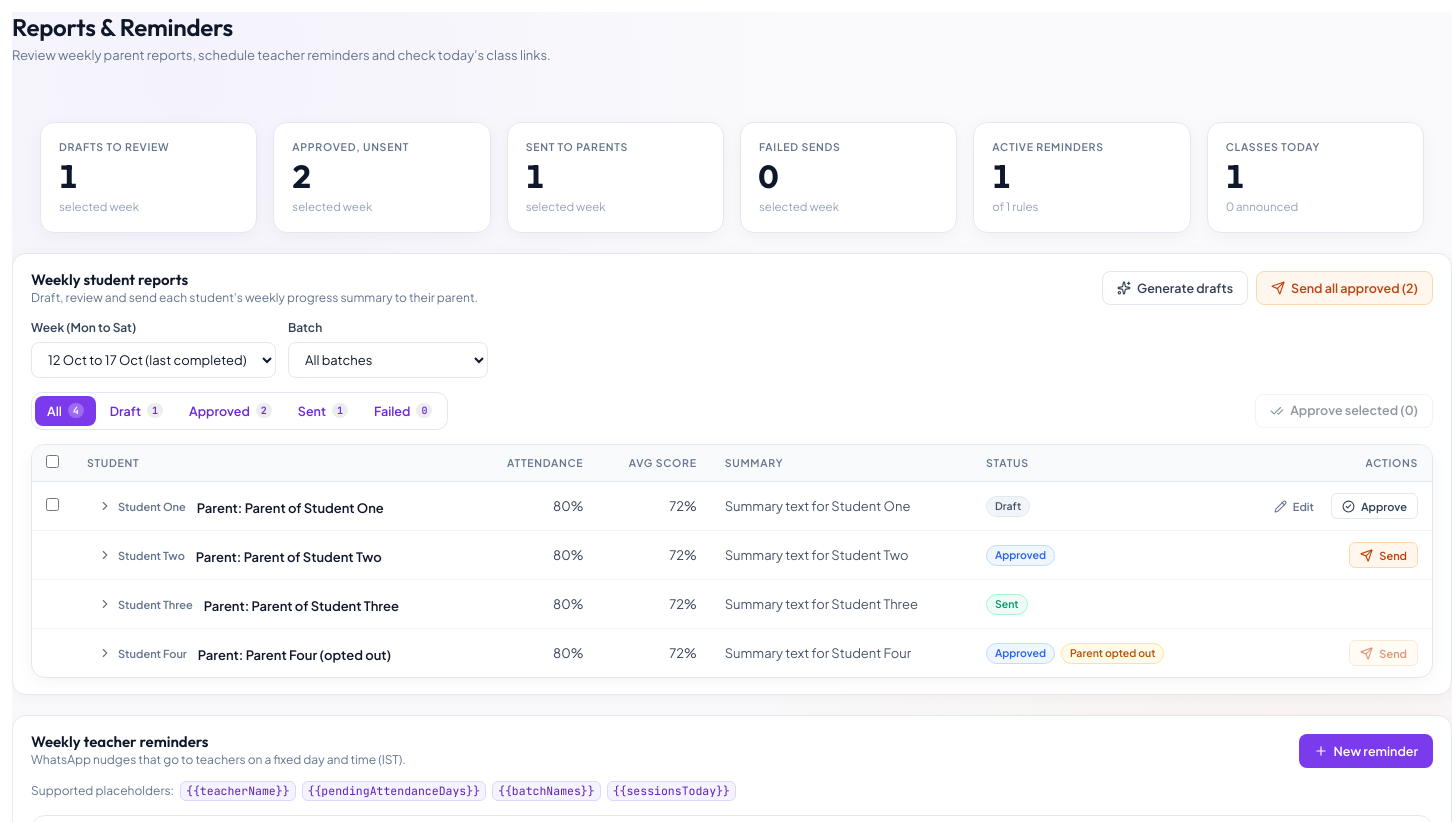
Test case: ReportsView: weekly reports › filters by status
This screenshot has width=1452, height=822.
Check: the button "Student One" is shown, box [87,493,197,519]
Click the tab "Sent 1": click(323, 410) [286,396,360,426]
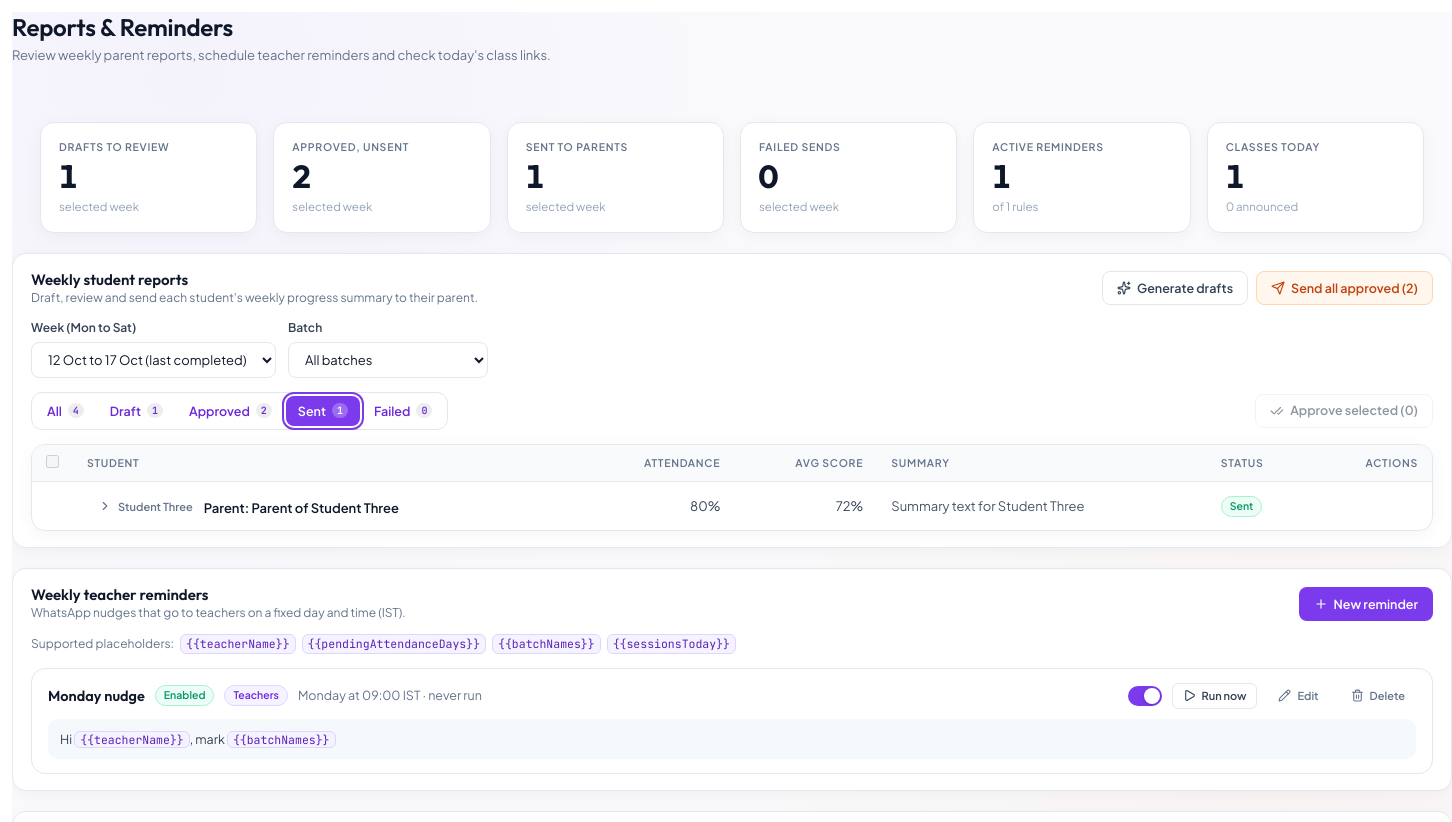
Check: the button "Student Three" is shown, box [87,493,204,519]
Check: the button "Student One" is gone
